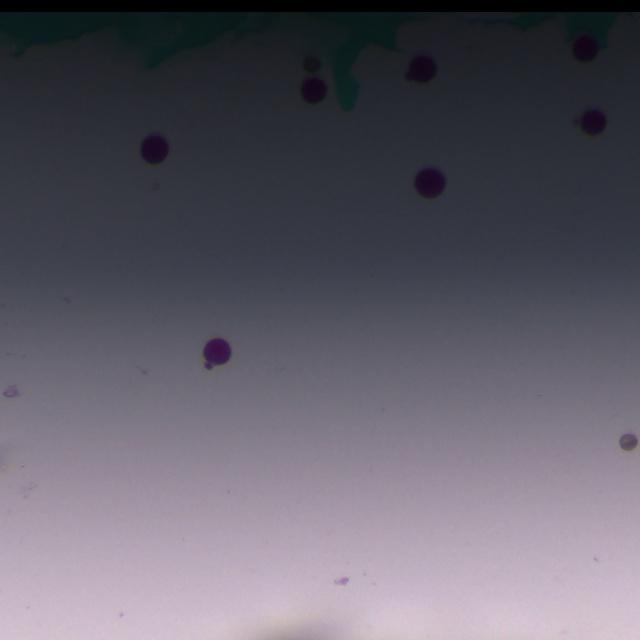non_viable: (302, 55, 321, 74), (619, 433, 637, 451)
viable: (414, 167, 445, 198), (139, 133, 169, 164), (405, 55, 437, 82), (203, 338, 230, 368), (572, 33, 598, 61), (579, 109, 606, 135), (300, 77, 326, 103)
